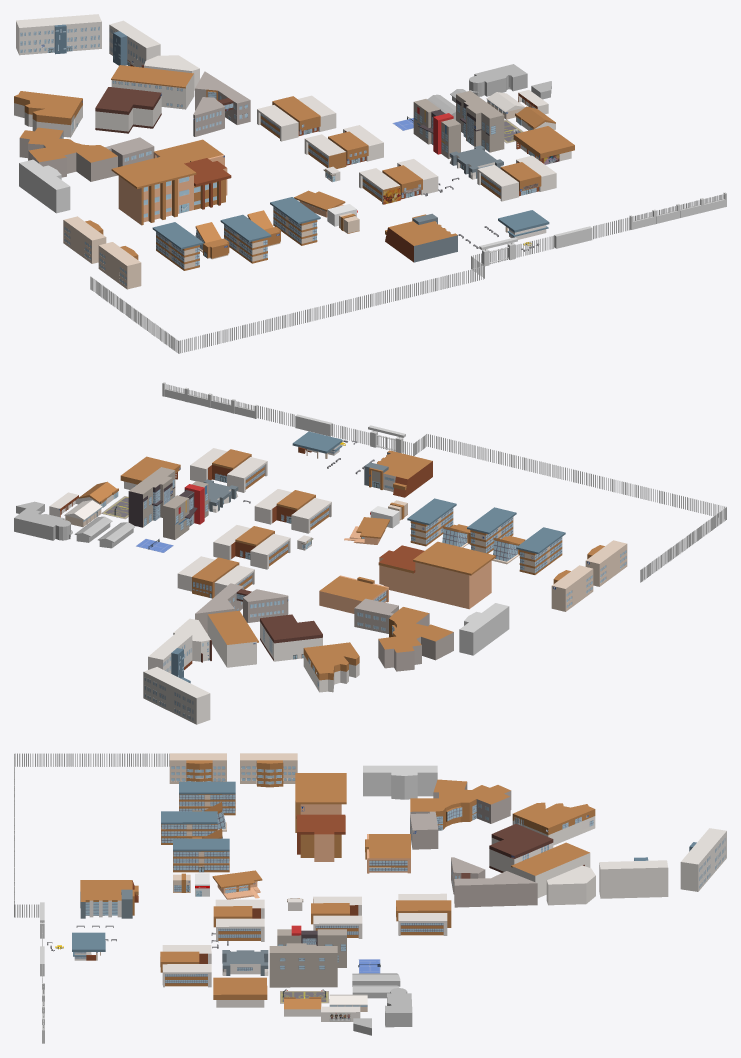
The model's file is modelo_iada.fbx.
The picture shows the model from 3 angles, top to bottom: view 1: azimuth 30°, elevation 25°; view 2: azimuth 150°, elevation 25°; view 3: azimuth 270°, elevation 25°; orthographic projection. The views are drawn at different scales.
Parts seen in each view (by area): view 1: edificioW, edificioY4, edificioK1, edificioY1, edificioD, edificioY5, edificioA, edificioB, edificioX, edificioC, edificioy3, edificioY2 (+20 smaller); view 2: edificioW, edificioY4, edificioK1, edificioB, edificioC, edificioA, edificioY5, edificioX, edificioD, edificioy3, edificioY1, edificioY2 (+23 smaller); view 3: edificioY4, edificioW, edificioY5, edificioB1, edificioI1, edificioR, edificioY2, edificioD, edificioA, edificioB, edificioX, edificioY1 (+21 smaller).
Boxes of the visible parts, x1,y1,x2,y2 form: edificioW: (111,154,231,225); edificioY4: (19,127,154,181); edificioK1: (16,14,101,55); edificioY1: (95,87,161,133); edificioD: (257,95,336,141); edificioY5: (193,71,250,136); edificioA: (477,155,556,201); edificioB: (359,159,438,204); edificioX: (385,213,457,262); edificioC: (304,125,383,168); edificioy3: (111,65,194,109); edificioY2: (14,91,82,137); edificioW: (378,541,495,609); edificioY4: (354,598,453,671); edificioK1: (143,667,210,724); edificioB: (254,489,331,533); edificioC: (213,525,290,569); edificioA: (190,448,267,492); edificioY5: (195,583,288,633); edificioX: (364,450,432,497); edificioD: (177,556,254,598); edificioy3: (207,610,258,667); edificioY1: (260,614,322,661); edificioY2: (303,642,359,692); edificioY4: (410,779,511,849); edificioW: (295,773,346,861); edificioY5: (451,857,537,907); edificioB1: (269,943,337,987); edificioI1: (599,857,668,898); edificioR: (363,765,437,799); edificioY2: (512,802,595,845); edificioD: (396,893,451,935); edificioA: (160,945,211,987); edificioB: (213,899,264,941); edificioX: (80,880,138,918); edificioY1: (489,824,553,872).
Bounding box in the file's own units: 143702 × 10038 × 156141.
